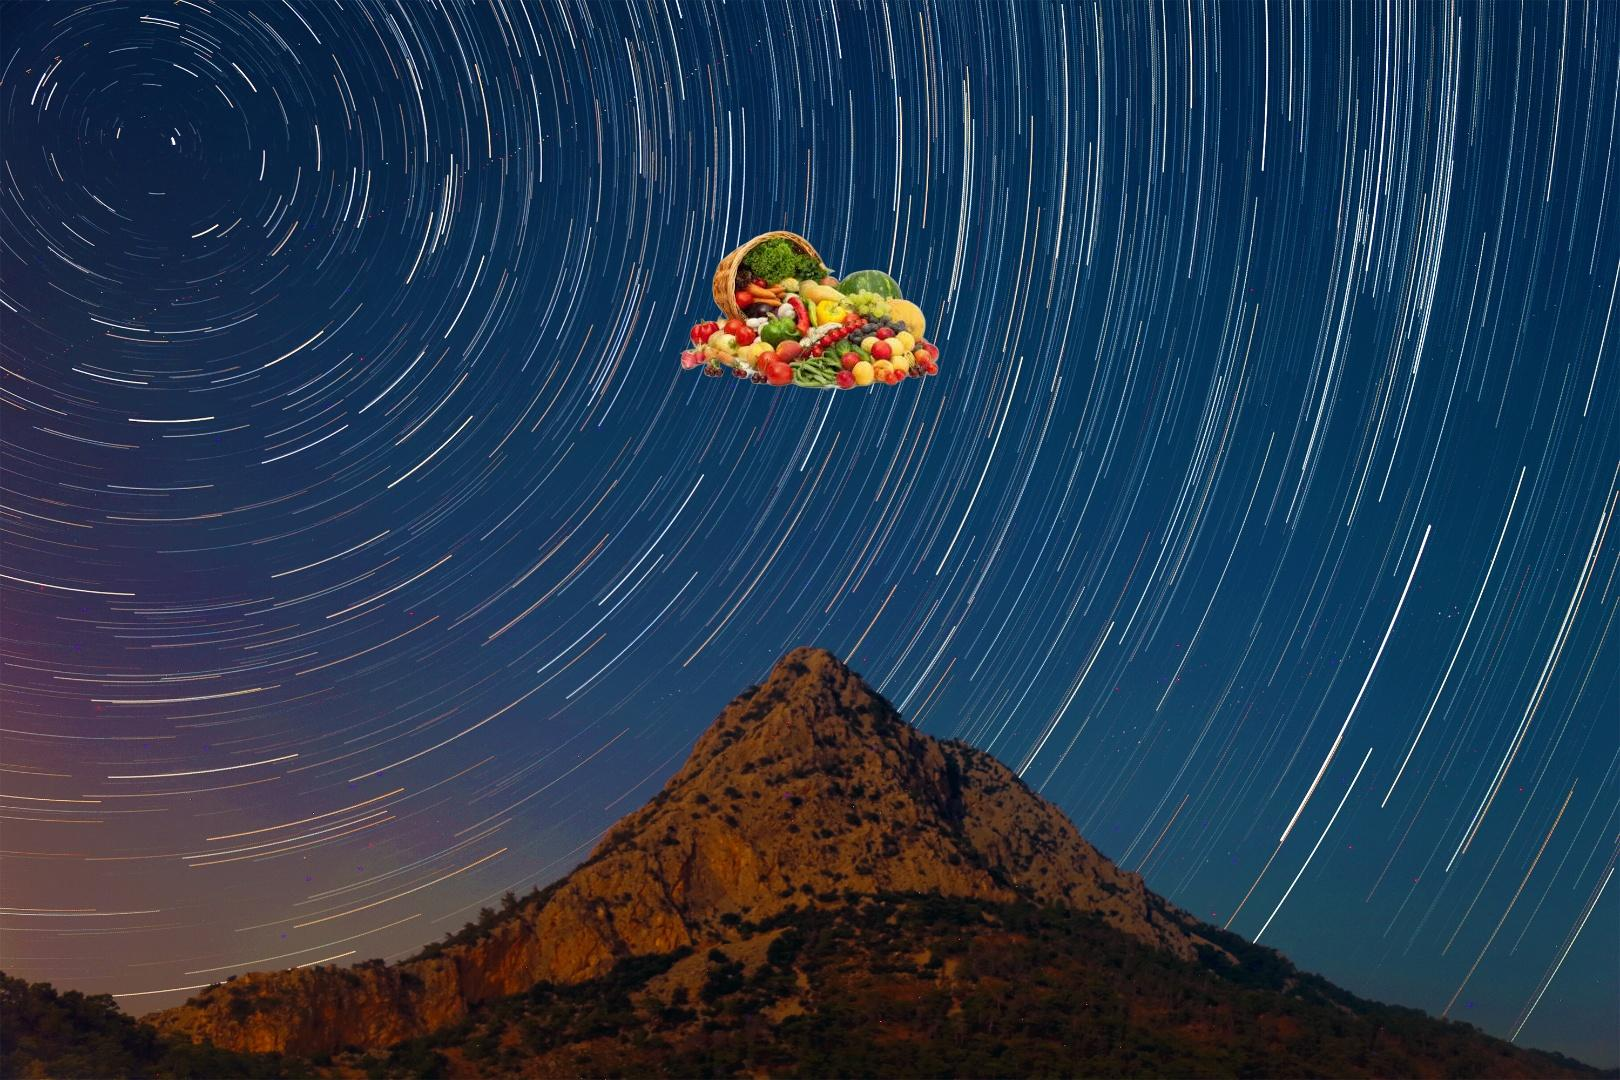biological: (675, 228, 944, 397)
